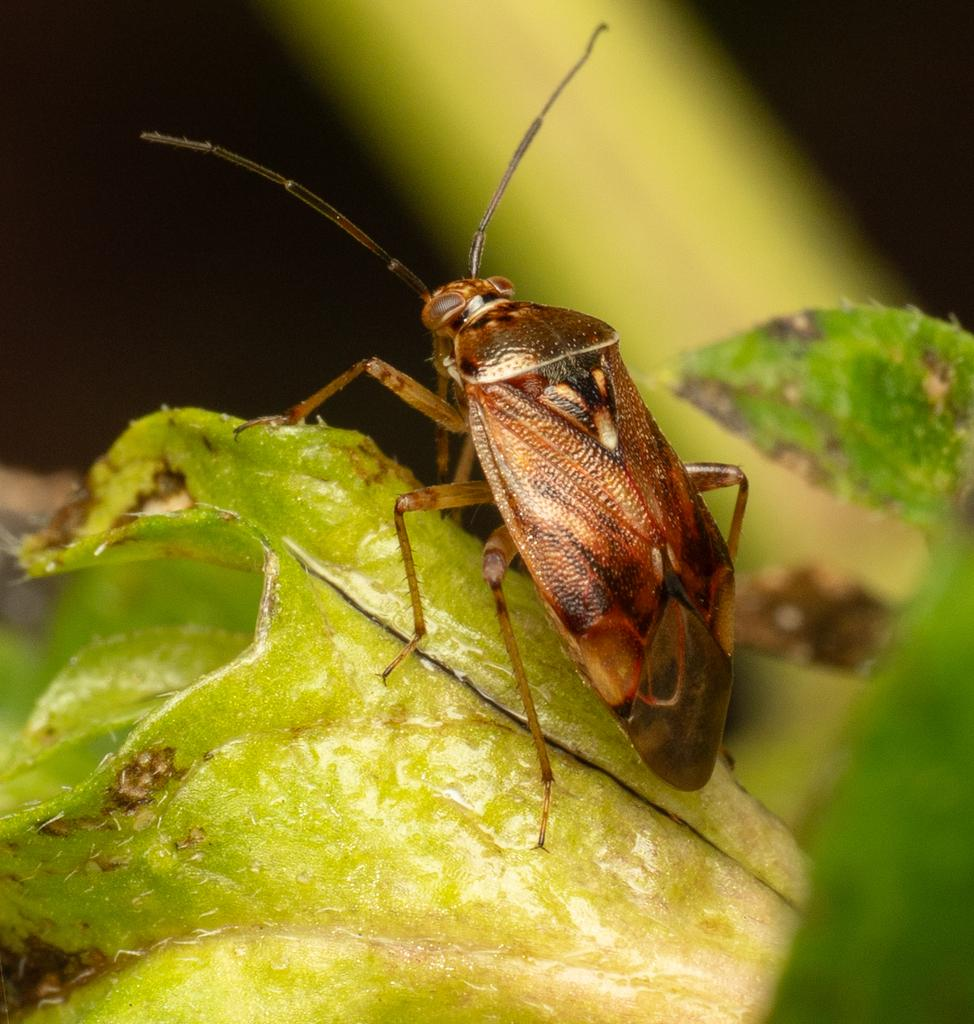plant_bugs: (89, 0, 899, 925)
